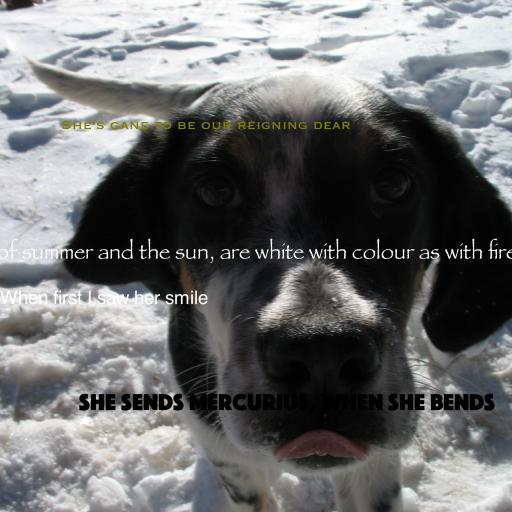Copperplate: (61, 120, 351, 130)
Papyrus: (0, 238, 512, 263)
Phosphate: (79, 393, 495, 413)
SignPainter: (0, 290, 208, 305)
